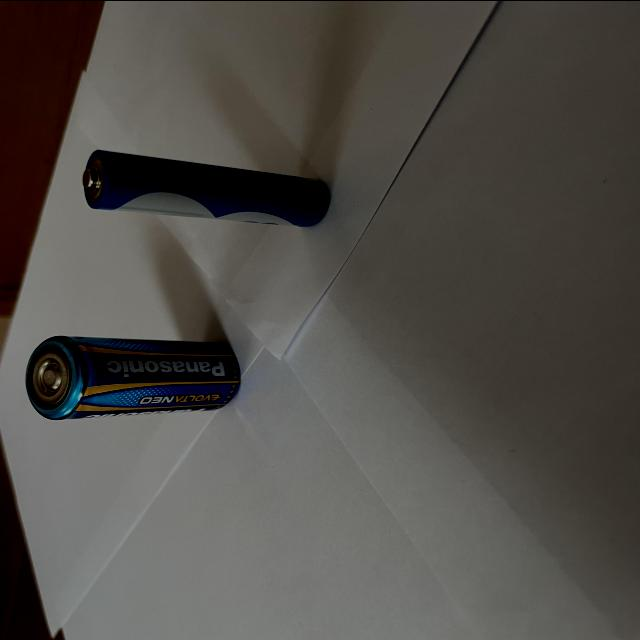AA: (80, 147, 328, 225)
